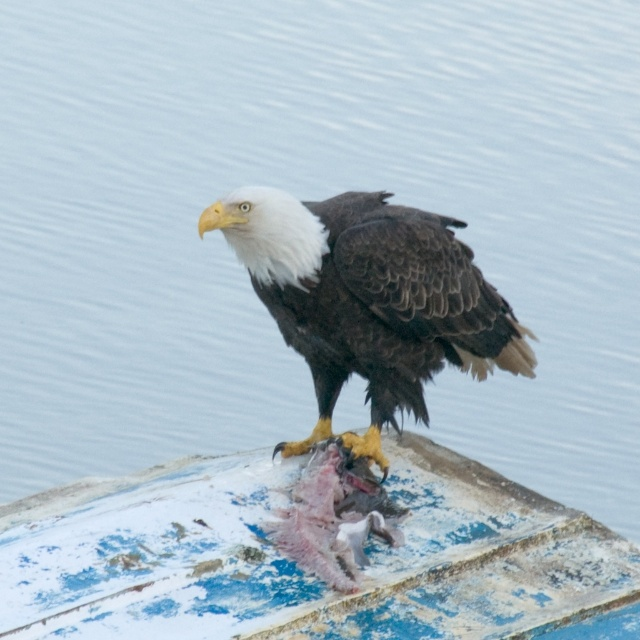Eagle: (198, 190, 538, 484)
